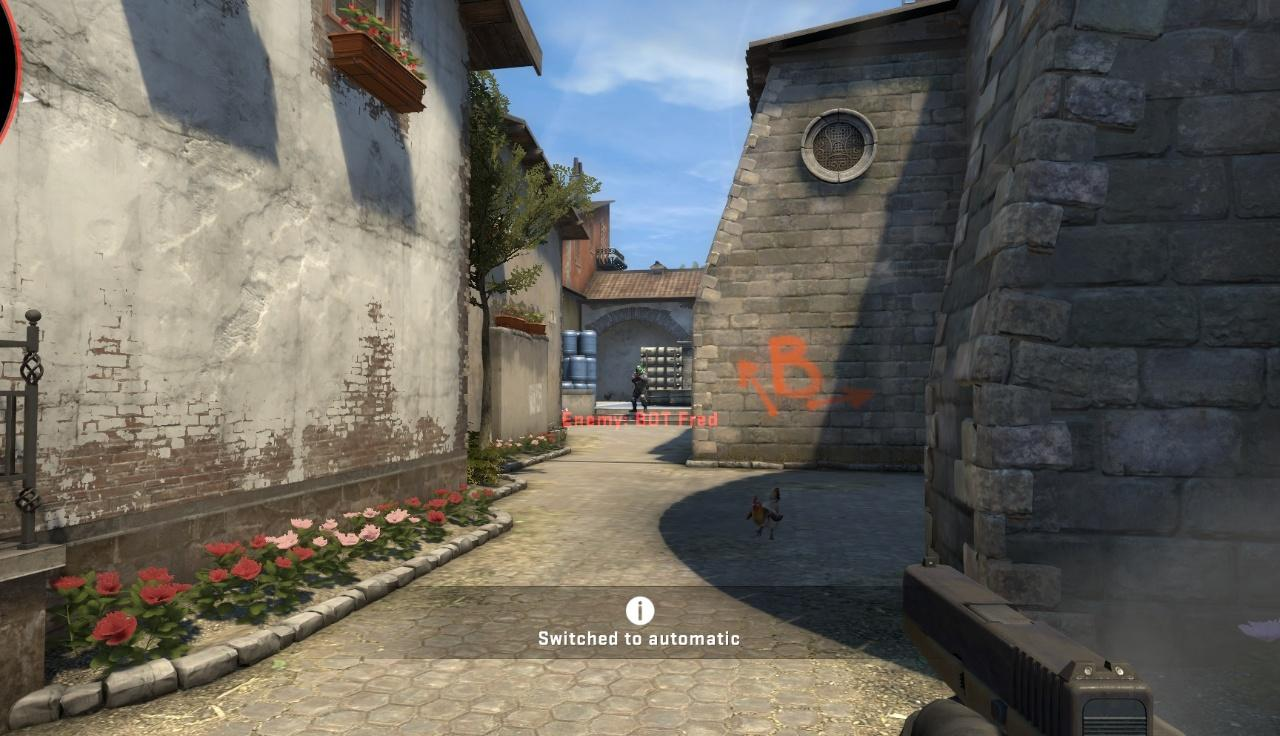ct: (629, 365, 649, 412)
cthead: (636, 365, 642, 374)
pistol: (902, 555, 1198, 736)
